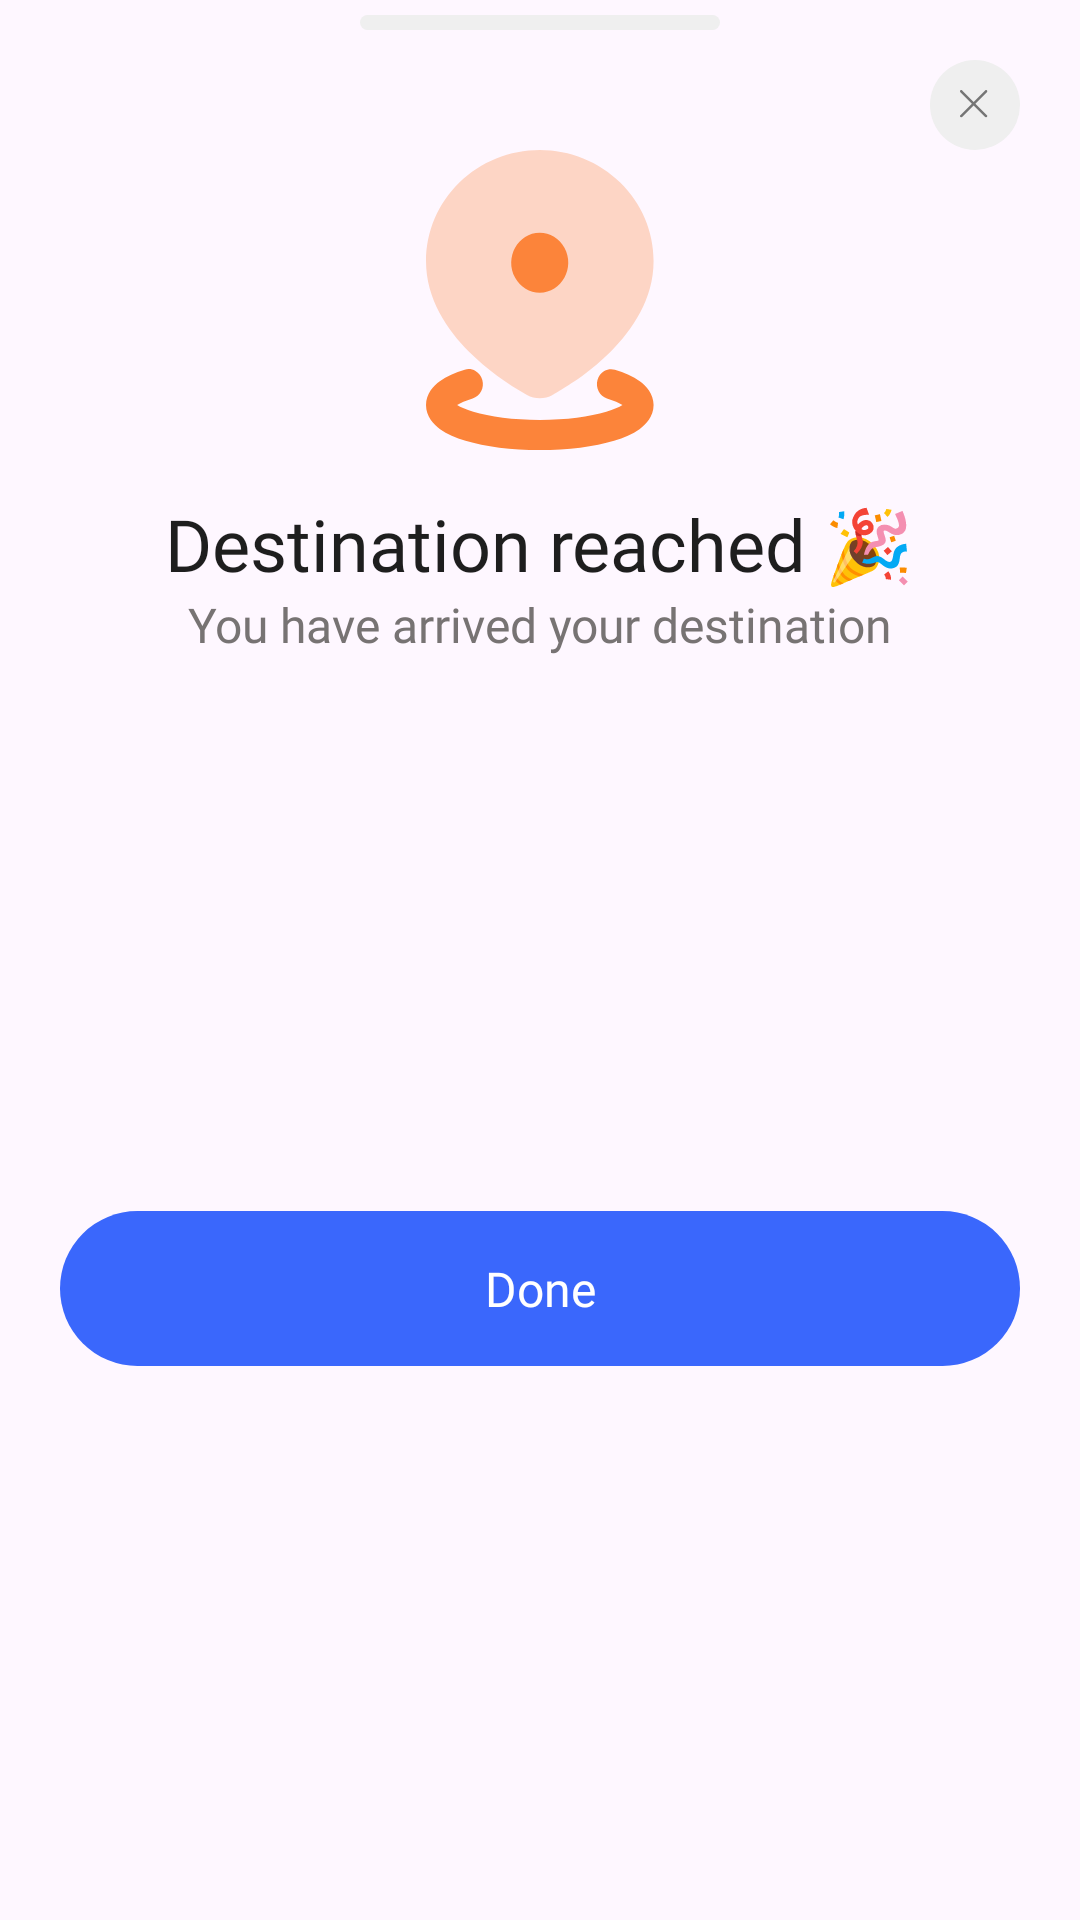

Screen size 1080x1920. Icon name, then its center in pixels as (x,y):
close: (975,105)
location: (540,300)
